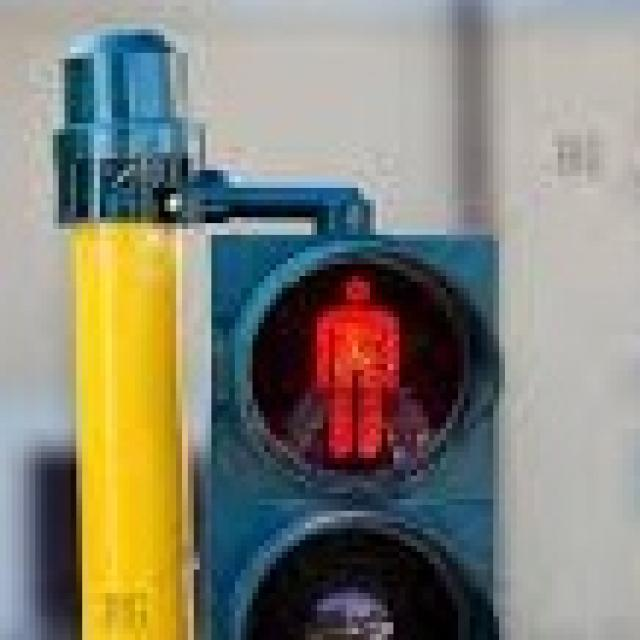red-crossing: (270, 252, 435, 476)
